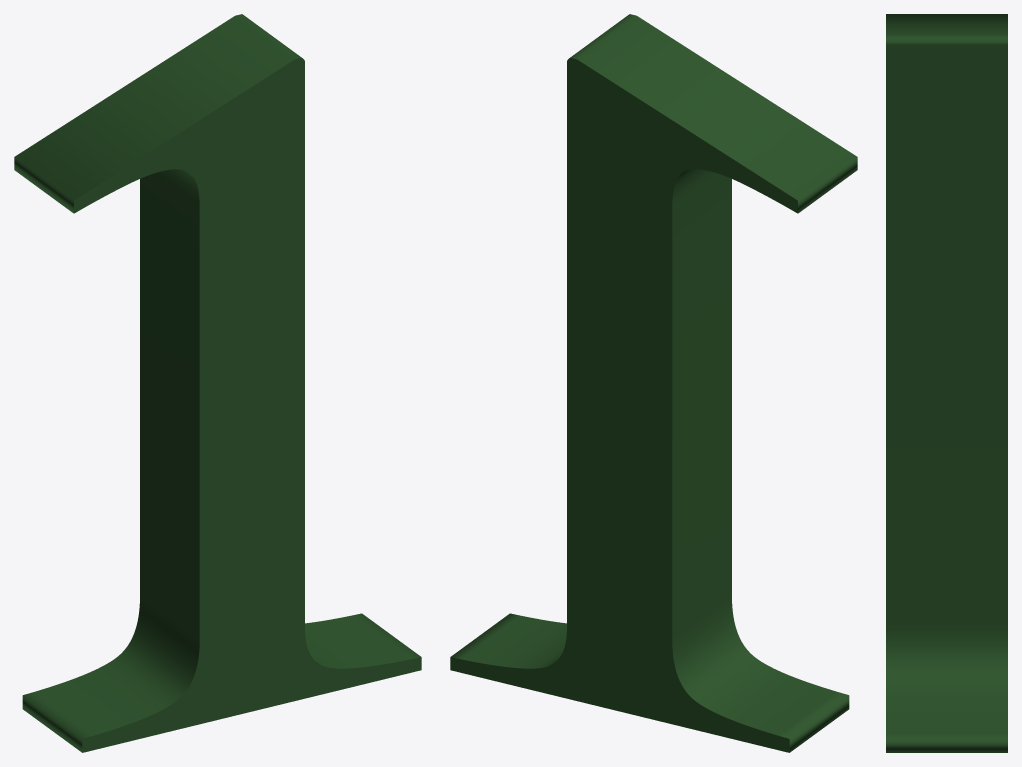
3 renders of one model, left to right at view 1: azimuth 30°, elevation 25°; view 2: azimuth 150°, elevation 25°; view 3: azimuth 270°, elevation 25°, orthographic. The views are drawn at different scales.
Parts seen in each view (by area): view 1: 1; view 2: 1; view 3: 1.
Part boxes in pixels (<box>): 1: <box>14,14,421,752</box>; 1: <box>450,14,857,752</box>; 1: <box>886,14,1007,752</box>.
Bounding box in the file's own units: 0.336 × 0.5925 × 0.1.
